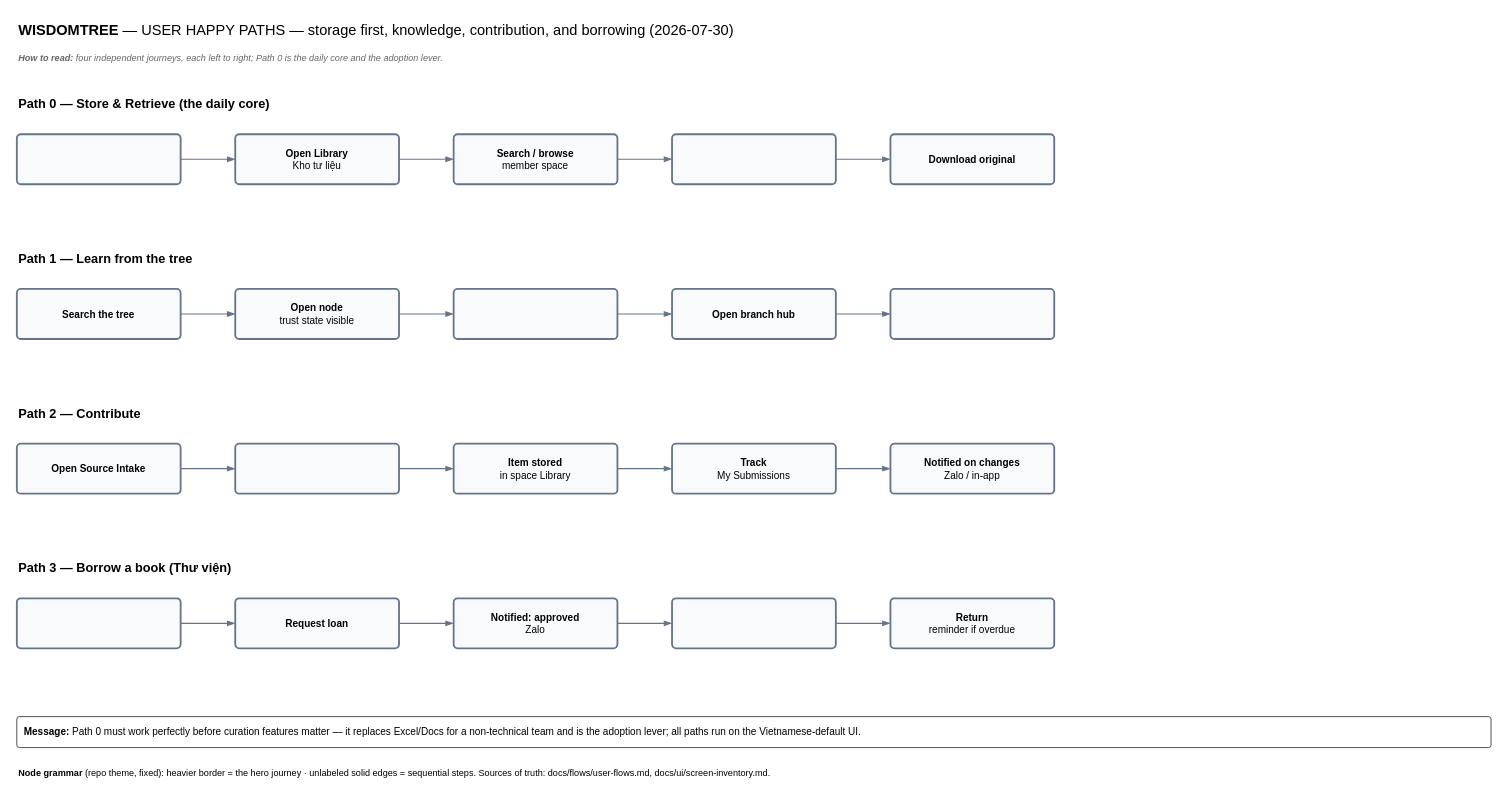
This 1507x799 diagram has some shape labels left out. The box of each missing label's shape, as (x1, y1, x2, y2) in pixels:
Browse Catalog: (15, 597, 181, 649)
Continue or contribute new source item: (889, 288, 1055, 339)
Follow links mini-graph: (452, 288, 618, 339)
Open app Google sign-in: (15, 133, 181, 185)
Open stored item preview + metadata: (671, 133, 836, 185)
Pick up librarian marks borrowed: (671, 597, 836, 649)
Upload file or gap request: (234, 442, 399, 494)
